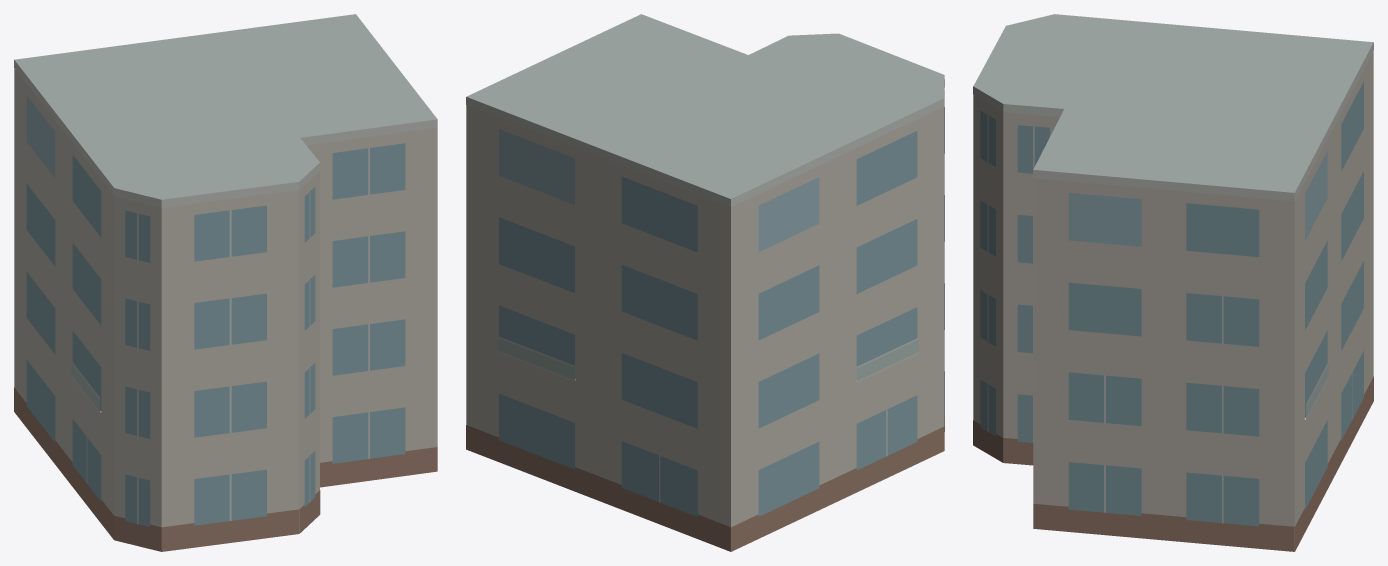
File: survey-upis-33029376.glb
3 renders of one model, left to right at view 1: azimuth 30°, elevation 25°; view 2: azimuth 150°, elevation 25°; view 3: azimuth 270°, elevation 25°, orthographic.
Visible parts, largest first — view 1: survey-upis-33029376.tmp; view 2: survey-upis-33029376.tmp; view 3: survey-upis-33029376.tmp.
Part boxes in pixels (box(x1,y1,x2,y2)): survey-upis-33029376.tmp: box(14, 14, 437, 551); survey-upis-33029376.tmp: box(466, 14, 944, 551); survey-upis-33029376.tmp: box(973, 14, 1373, 551).
Size of the model in its own units: 11.12 by 10.4 by 10.52.
